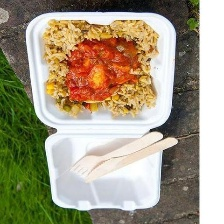foam_box: (19, 9, 180, 216)
